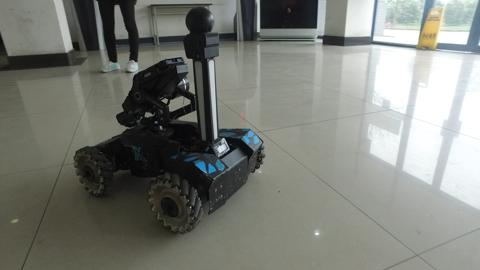chariot: (70, 5, 267, 234)
